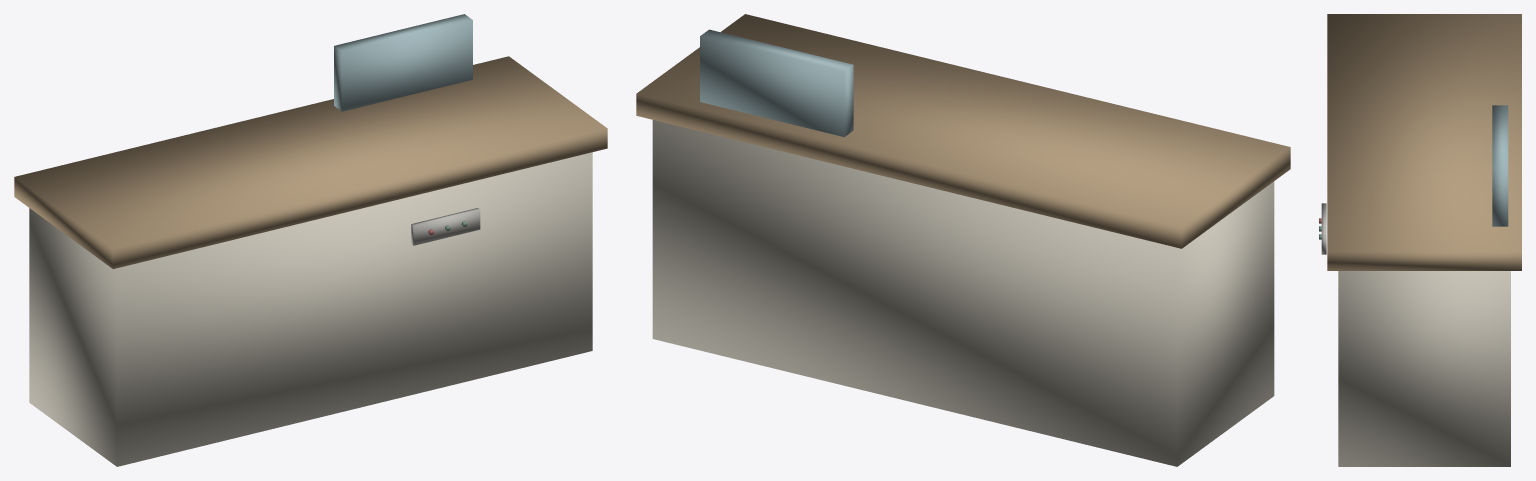
File: service_counter.glb
The picture shows the model from 3 angles, left to right: view 1: azimuth 30°, elevation 25°; view 2: azimuth 150°, elevation 25°; view 3: azimuth 270°, elevation 25°; orthographic projection. The views are drawn at different scales.
Parts seen in each view (by area): view 1: world; view 2: world; view 3: world.
Part boxes in pixels (x1,y1,x2,y2): world: (14, 14, 607, 466); world: (636, 14, 1290, 466); world: (1319, 14, 1521, 466).
Size of the model in its own units: 2.08 by 1.14 by 0.751.
